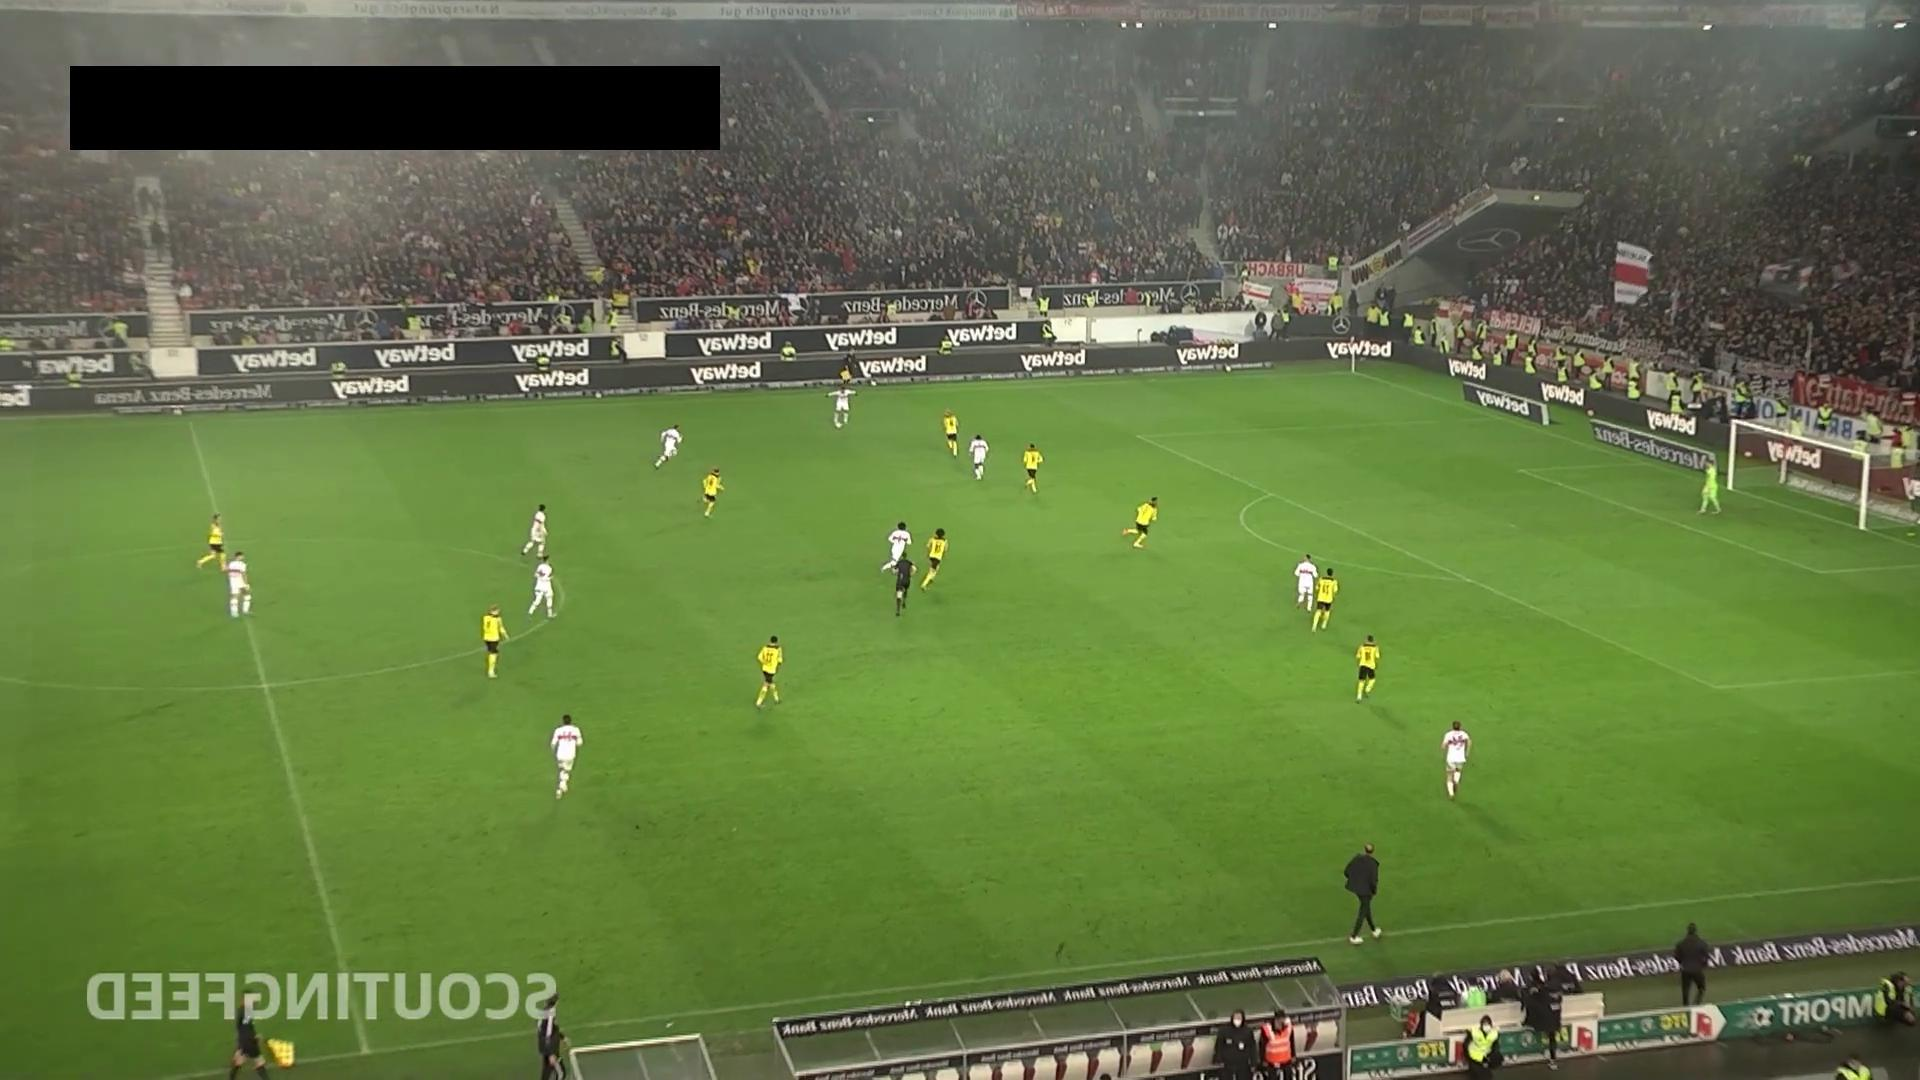ball: (834, 421, 843, 431)
goalkeeper: (1697, 459, 1722, 515)
player: (550, 713, 584, 799), (1440, 719, 1471, 800), (755, 634, 784, 710), (481, 603, 510, 678), (196, 513, 229, 573), (1310, 566, 1339, 634), (527, 555, 556, 619), (225, 550, 252, 618), (1354, 634, 1381, 702), (920, 527, 948, 589), (1128, 496, 1159, 549), (1293, 553, 1320, 612), (521, 503, 548, 559), (883, 520, 912, 572), (826, 382, 859, 427), (654, 423, 683, 469), (701, 466, 725, 518), (1022, 442, 1044, 494), (968, 432, 989, 480), (941, 407, 960, 456)
referee: (227, 991, 297, 1080), (887, 552, 916, 617), (839, 347, 858, 388)
